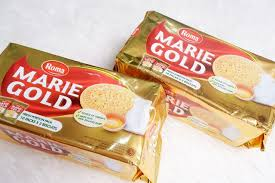Roma Marie Gold (240g): (29, 32, 204, 115), (136, 2, 275, 83)
